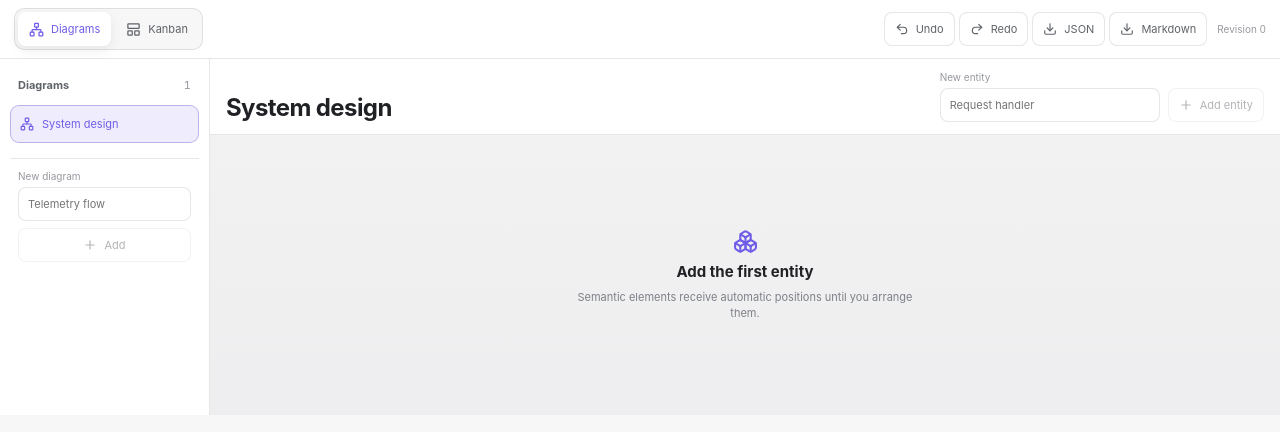
Test: EngineeringWorkspace › keeps diagram and Kanban as switchable projections of the same workspace
Check: the heading "System design" is shown, box [226, 94, 392, 122]
Click the tab "Kanban" at coordinates (157, 29), box [115, 12, 199, 46]
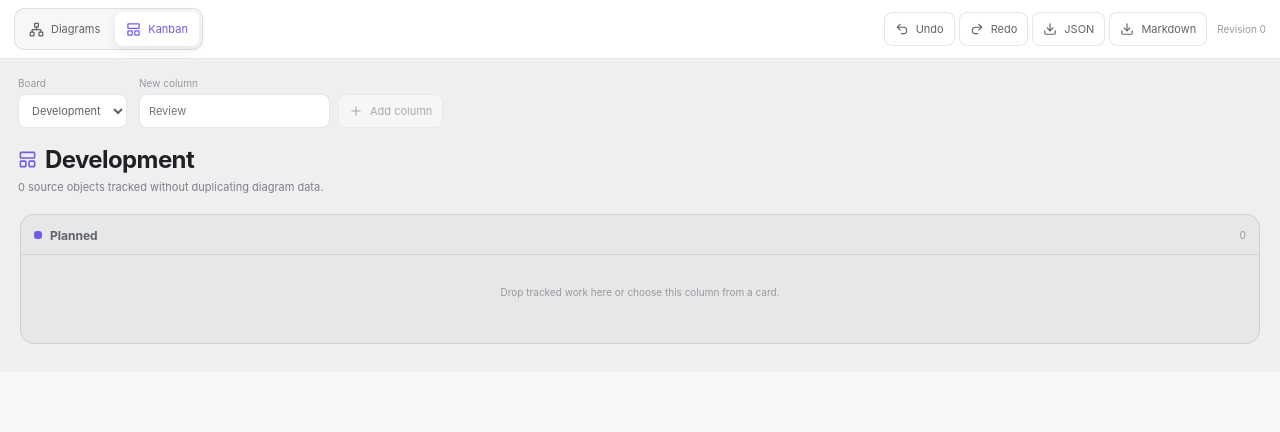
Check: the heading "Planned" is shown, box [50, 228, 98, 242]
Check: the dropdown labelled "Board" shows "Development", box [18, 94, 127, 128]
